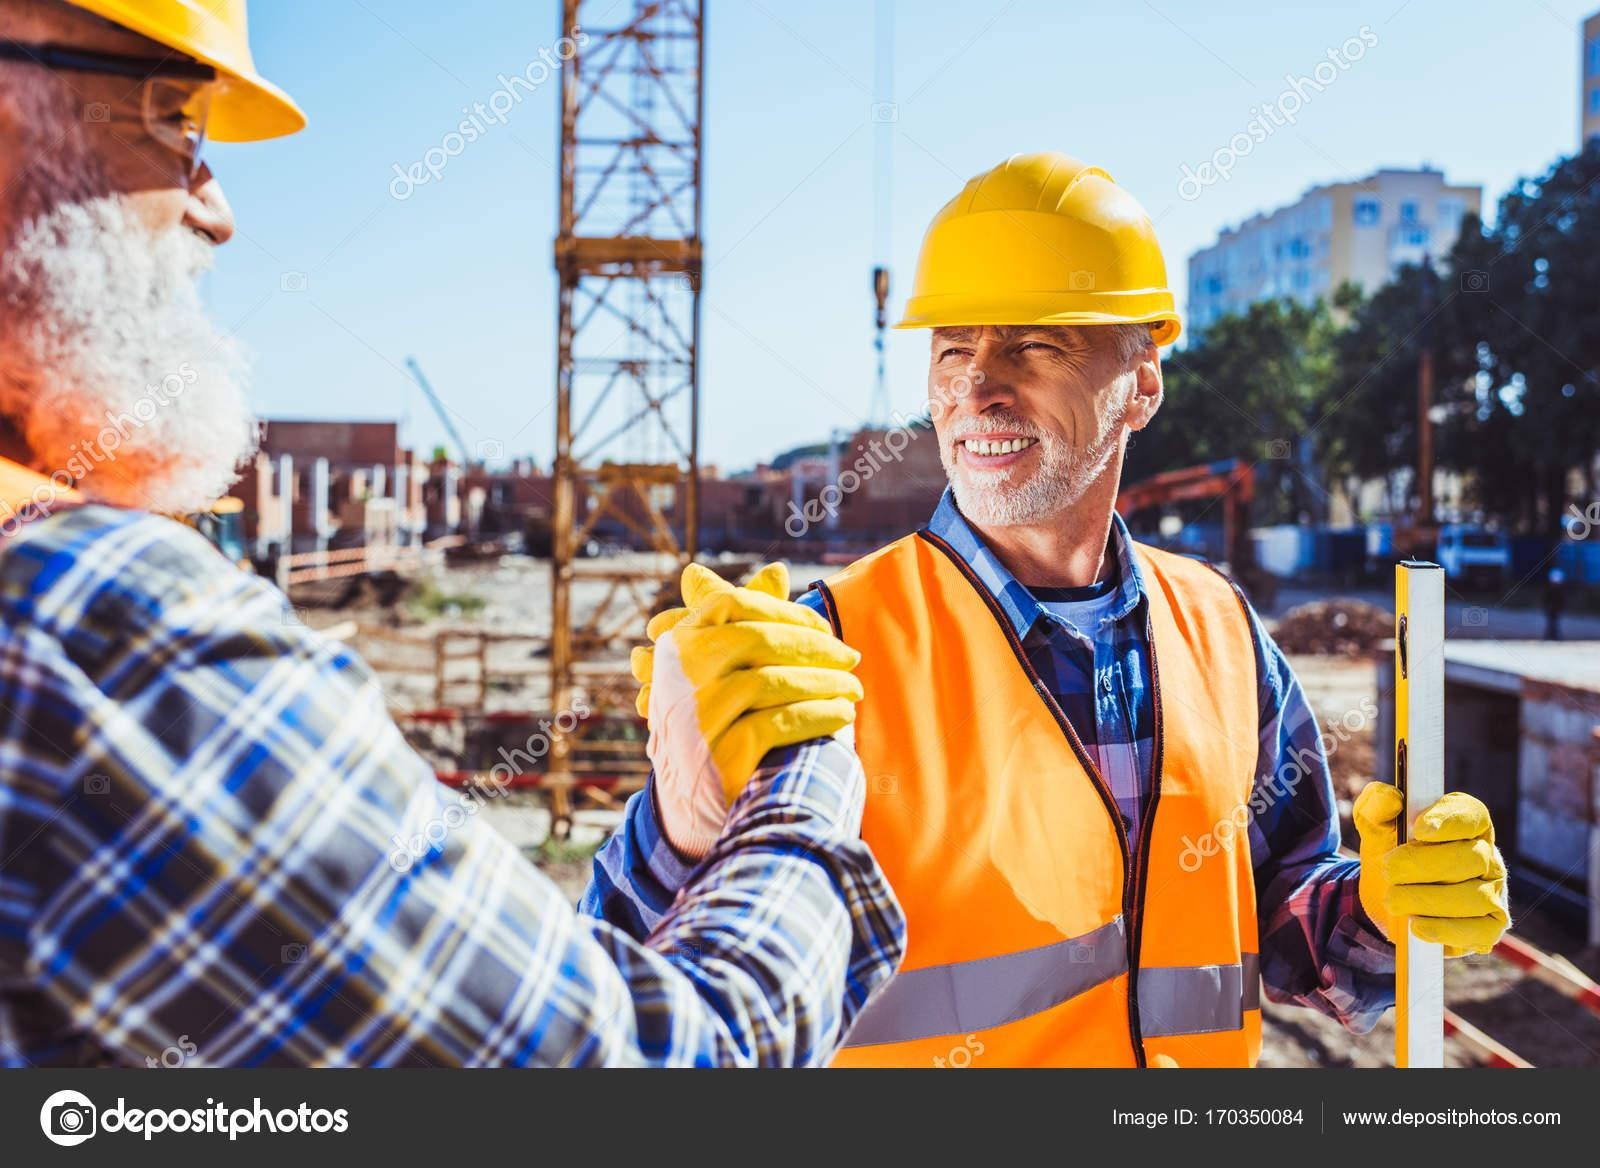helmet: (894, 153, 1180, 331), (2, 1, 311, 135)
